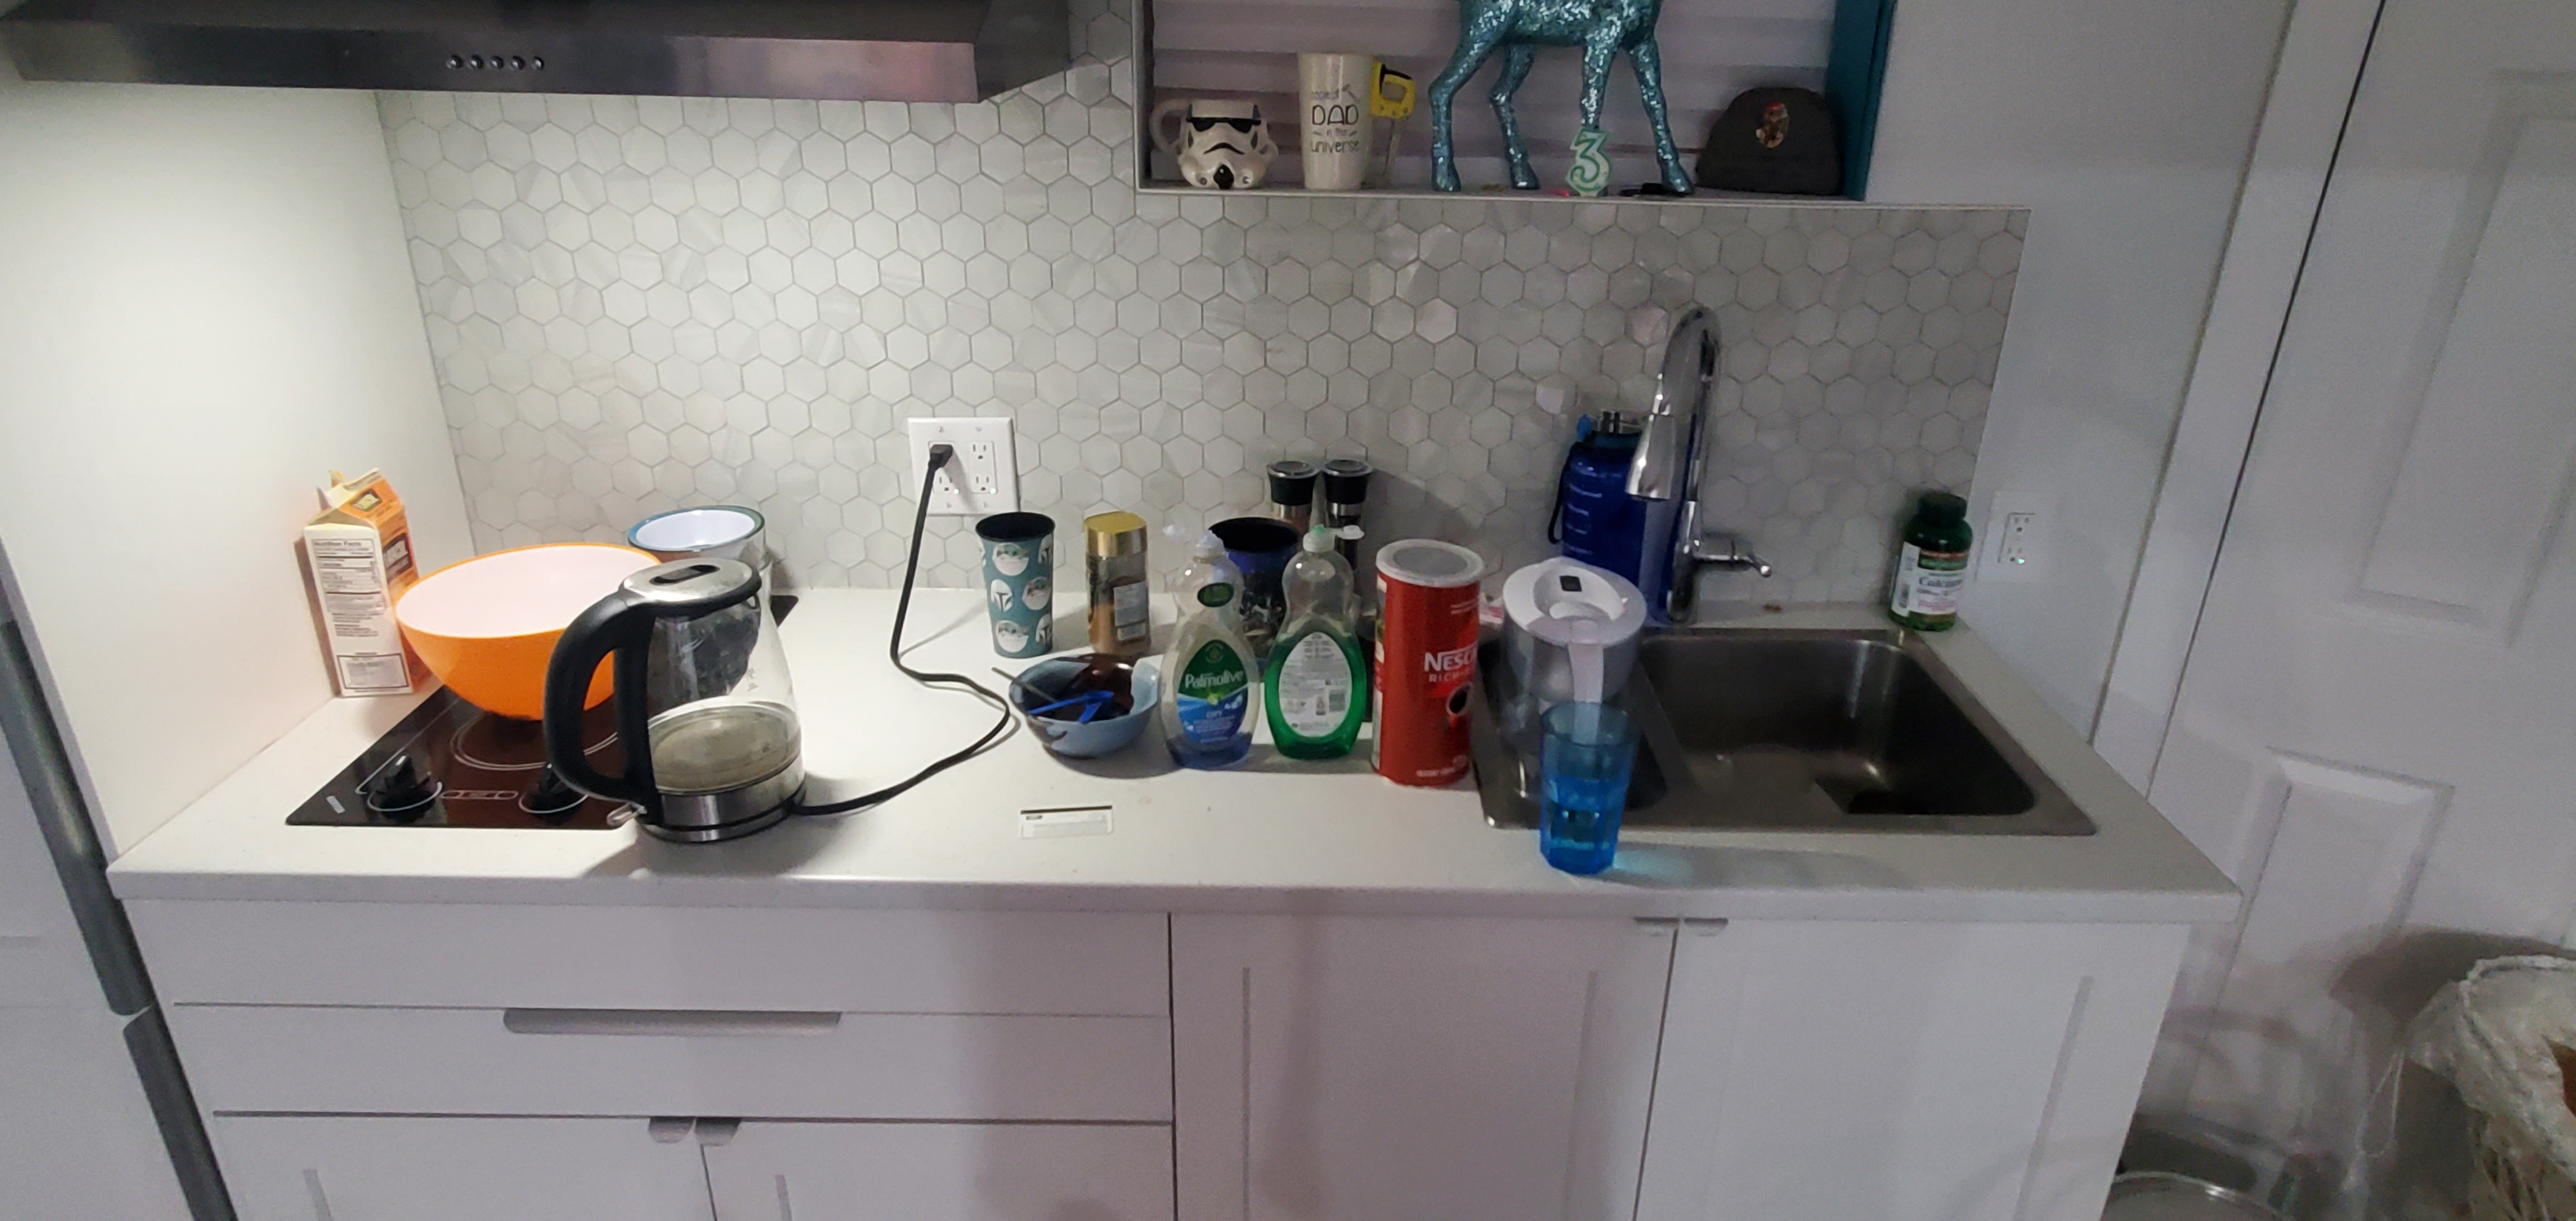giftcard: (1015, 805, 1115, 845)
sink: (1475, 623, 2103, 828)
